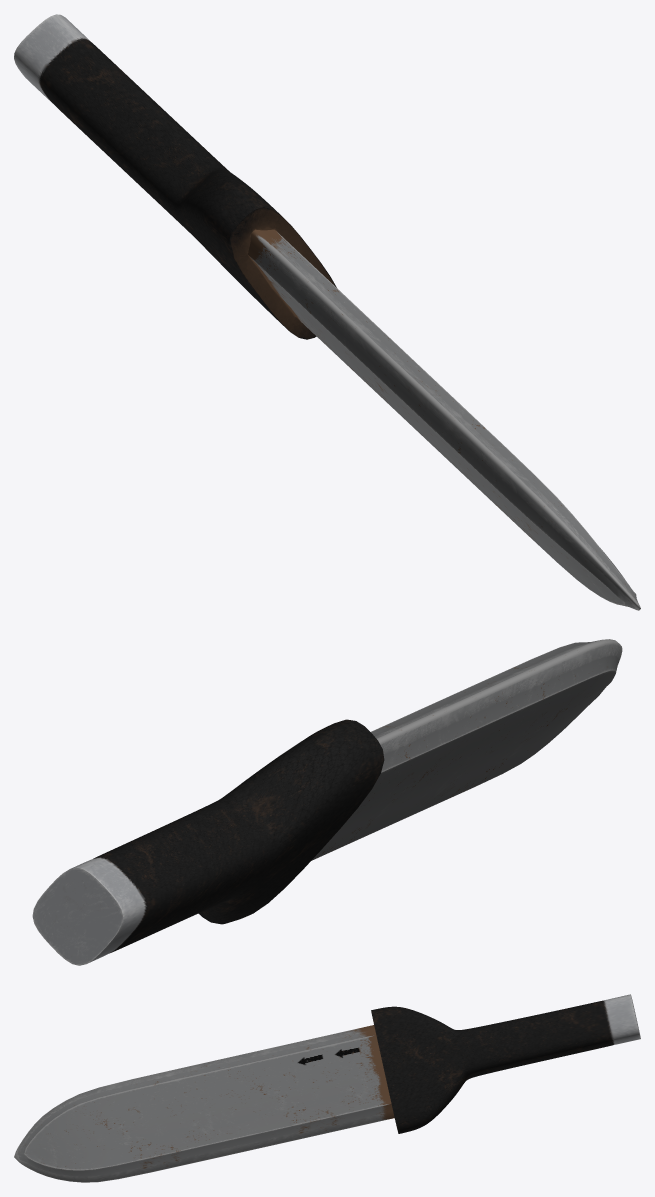
Rendered from thorfinns_knife (1).glb.
3 renders of one model, top to bottom at view 1: azimuth 30°, elevation 25°; view 2: azimuth 150°, elevation 25°; view 3: azimuth 270°, elevation 25°, orthographic. The views are drawn at different scales.
Parts seen in each view (by area): view 1: Cube.002; view 2: Cube.002; view 3: Cube.002.
Boxes of the visible parts, x1,y1,x2,y2 form: Cube.002: [14, 14, 640, 610]; Cube.002: [32, 639, 622, 965]; Cube.002: [14, 994, 640, 1182].
Size of the model in its own units: 0.043 by 0.0759 by 0.2717.
1 material, 1 textured.
